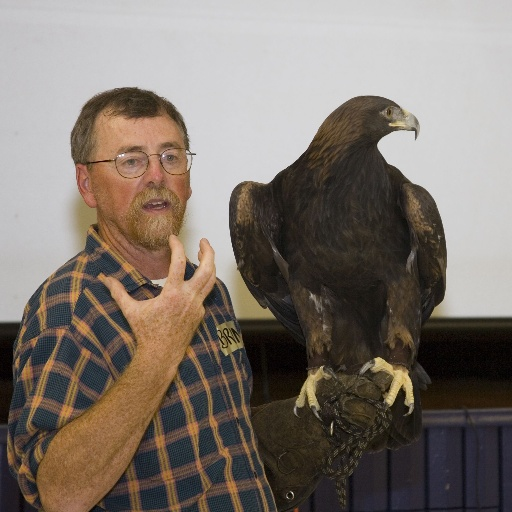hand: (131, 231, 225, 369), (315, 369, 397, 442)
